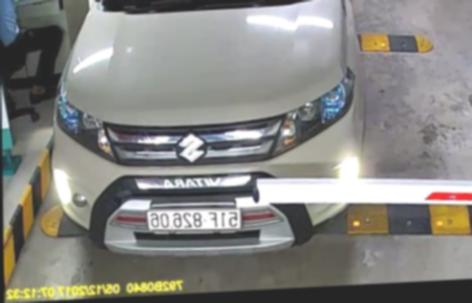License_Plate: (144, 204, 244, 234)
